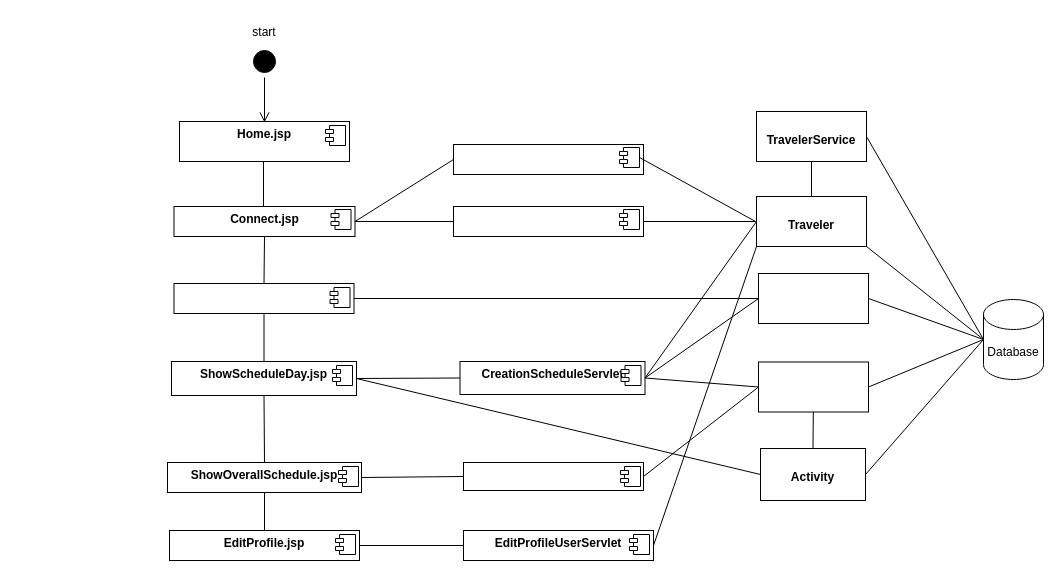
Image size: 1061x578. Some labels were removed from this diagram. The centre of each missing label's shape, as x and y in pixels:
CreationScedule: the point at 813,298
FeedbackServlet: the point at 553,476
Schedule: the point at 813,386
Selection.jsp: the point at 263,298
Signin_Controler: the point at 548,221
Signup_Controler: the point at 548,159
